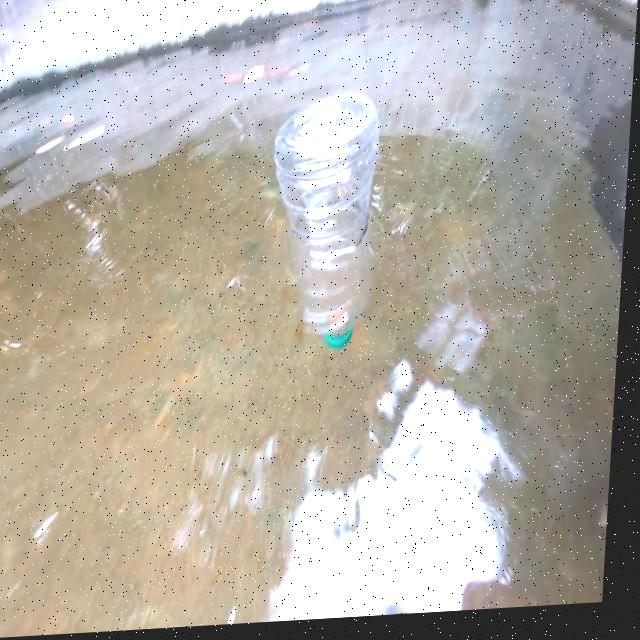waterbottle: (260, 86, 406, 386)
